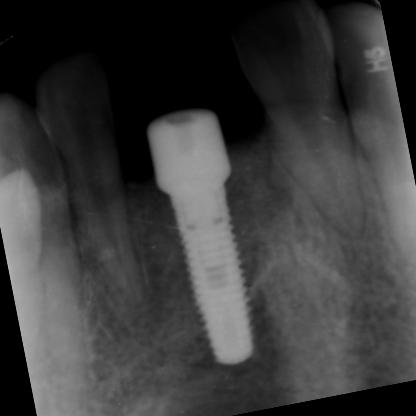Bego: (150, 178, 262, 369)
